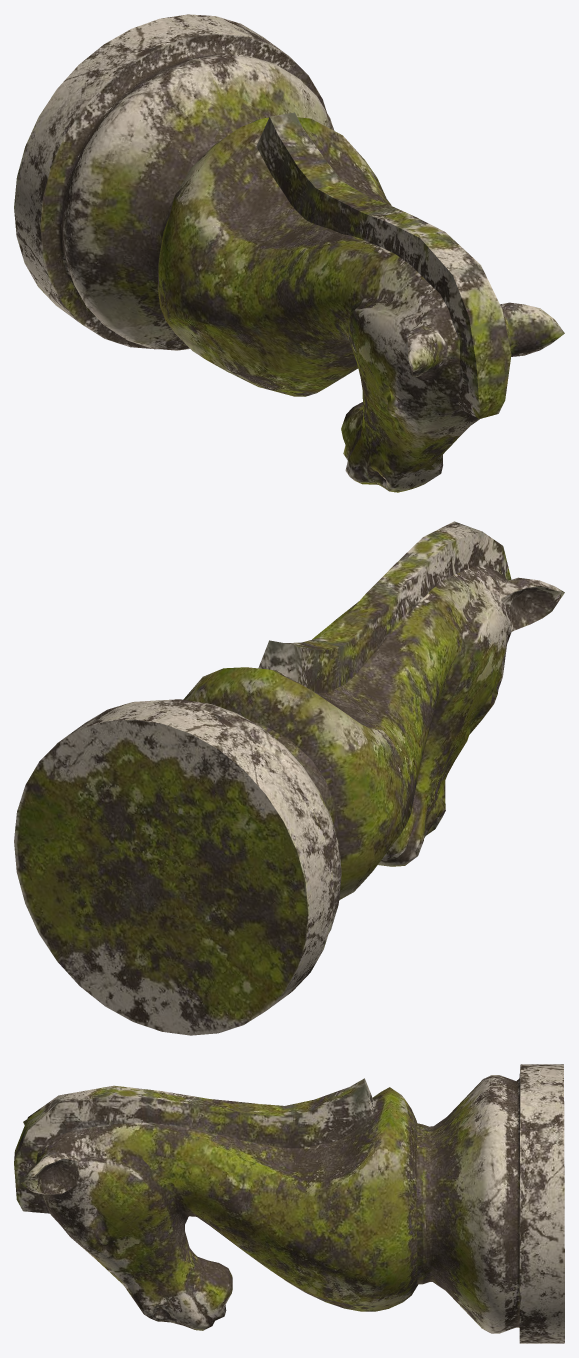
File: Knight.obj
3 renders of one model, top to bottom at view 1: azimuth 30°, elevation 25°; view 2: azimuth 150°, elevation 25°; view 3: azimuth 270°, elevation 25°, orthographic. The views are drawn at different scales.
Visible parts, largest first — view 1: defaultMaterial; view 2: defaultMaterial; view 3: defaultMaterial.
Boxes of the visible parts, x1,y1,x2,y2 form: defaultMaterial: (14, 14, 564, 492); defaultMaterial: (14, 521, 564, 1035); defaultMaterial: (14, 1064, 564, 1343).
Size of the model in its own units: 2.54 by 2.54 by 5.
Materials: 1 (1 with a texture image).
